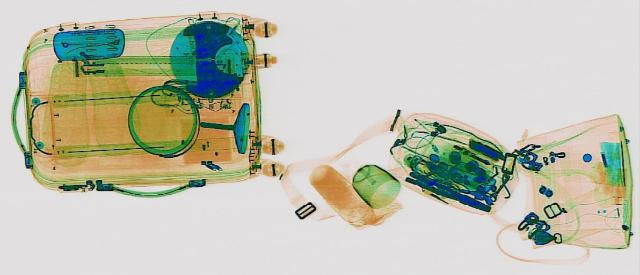Pliers: (395, 170, 499, 213)
